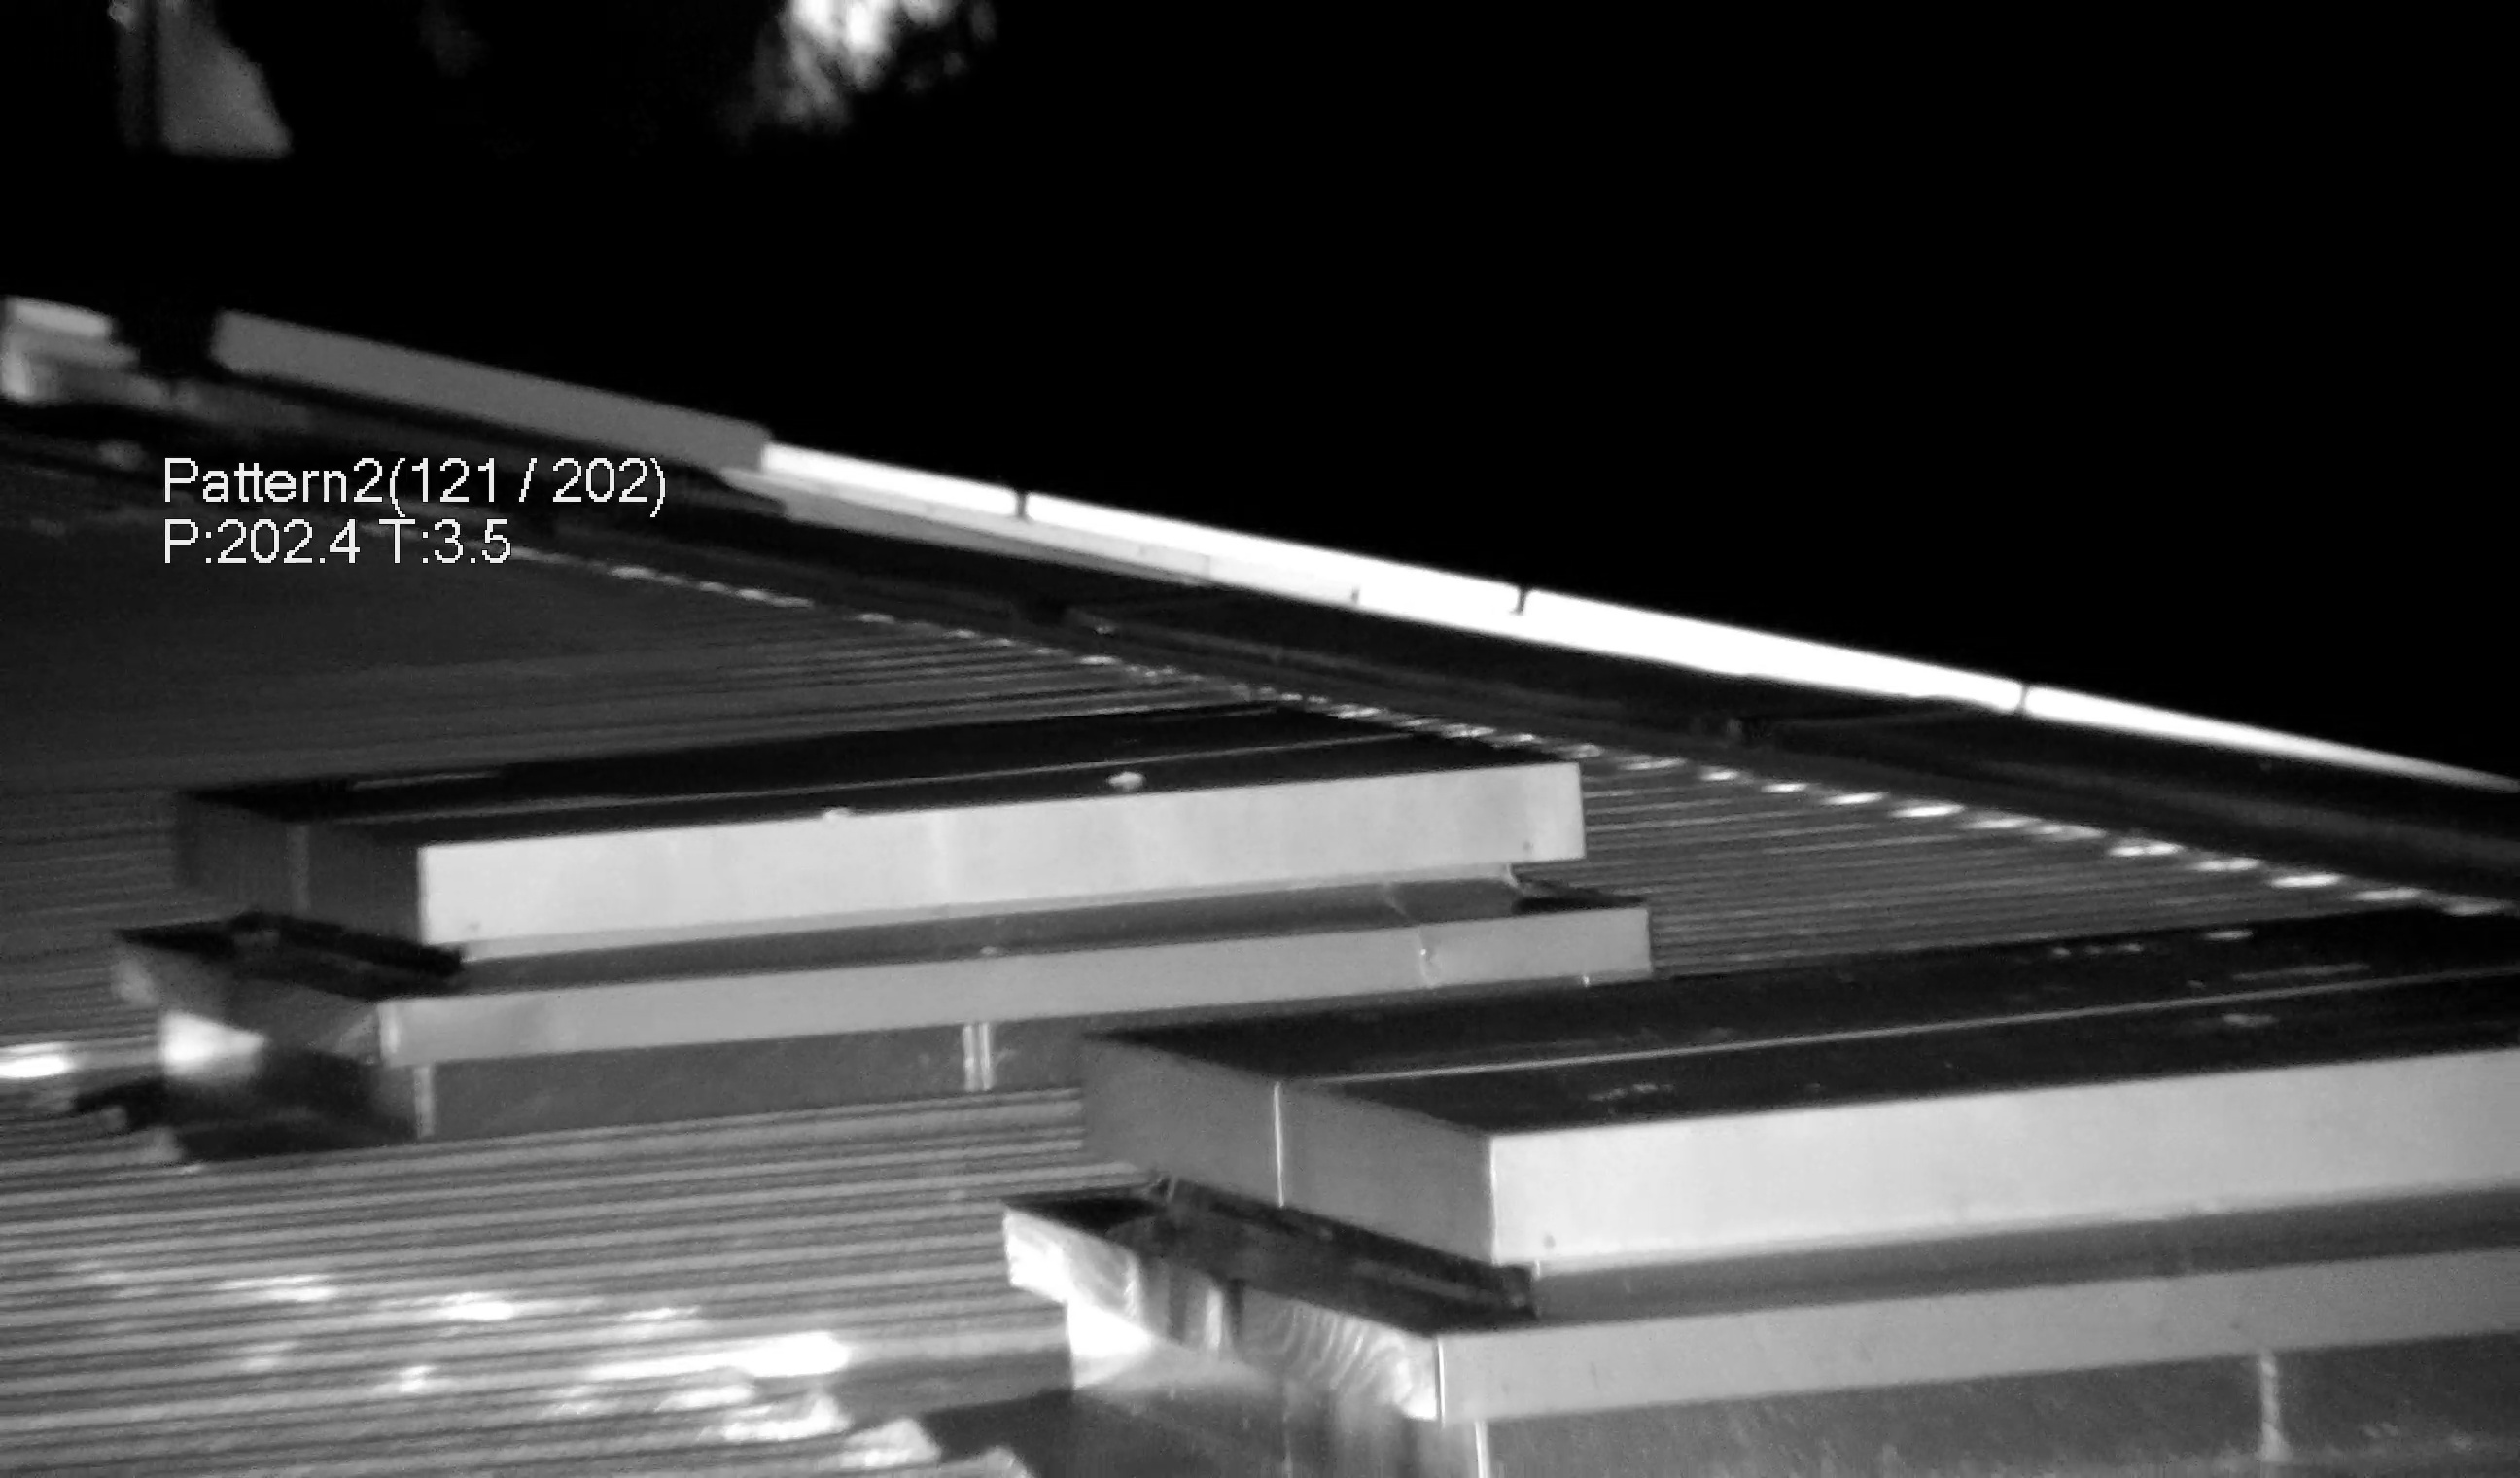Other: (44, 892, 484, 1123)
